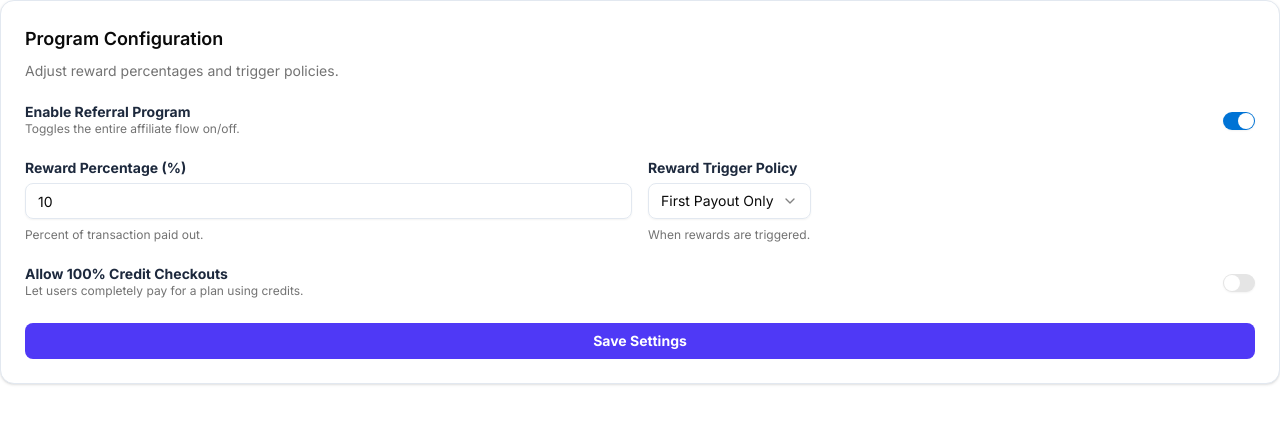
Test case: platform config numeric fields reject an emptied box › never commits a zero referral reward from a cleared field
Clear the number field labelled "Reward Percentage (%)" at coordinates (328, 201), box [25, 183, 632, 219]
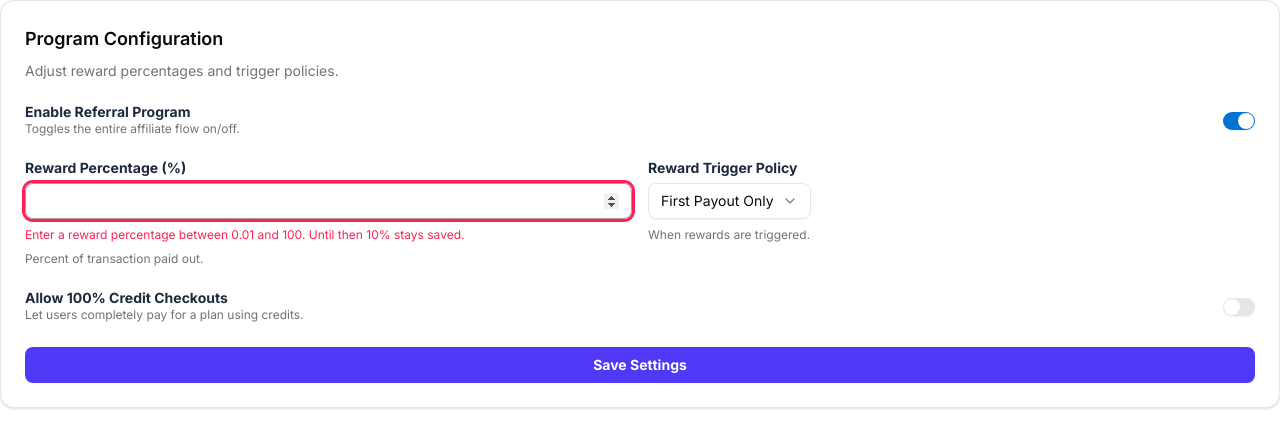
Expected: the text "stays saved" is shown, [391, 227, 464, 242]
